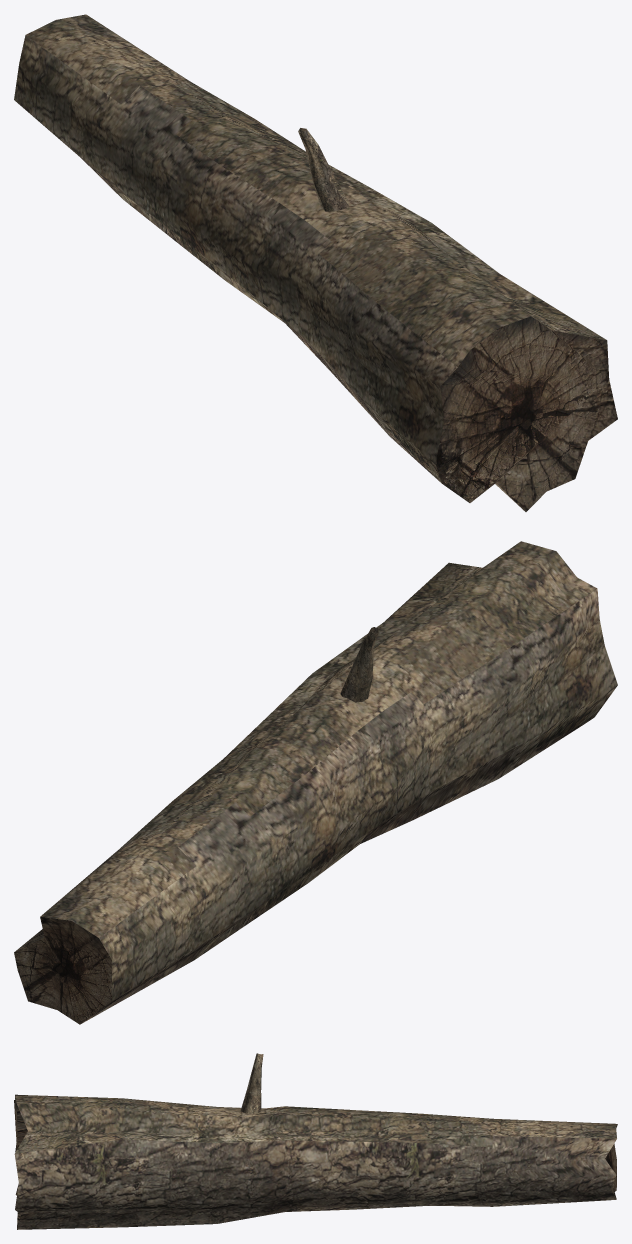
File: fallenlog.fbx
3 views of the same model, one above another, from view 1: azimuth 30°, elevation 25°; view 2: azimuth 150°, elevation 25°; view 3: azimuth 270°, elevation 25° (orthographic). The views are drawn at different scales.
Visible parts, largest first — view 1: polySurface5; view 2: polySurface5; view 3: polySurface5.
Boxes of the visible parts, x1,y1,x2,y2 form: polySurface5: (14, 14, 617, 511); polySurface5: (14, 541, 617, 1024); polySurface5: (14, 1053, 617, 1229).
Bounding box in the file's own units: 1.08 × 1.44 × 4.79.
